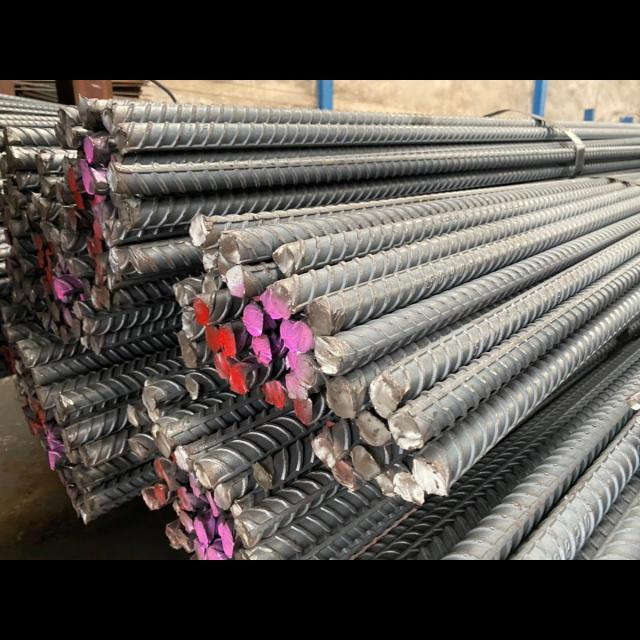Rebar: (388, 410, 426, 451), (413, 458, 449, 501), (325, 377, 361, 418), (355, 409, 390, 446), (367, 375, 401, 413), (270, 241, 308, 275), (315, 338, 347, 375), (305, 303, 336, 338), (221, 231, 249, 269), (354, 448, 385, 482), (398, 474, 427, 507), (180, 330, 205, 368), (296, 354, 324, 387), (332, 463, 360, 495), (277, 346, 305, 377), (167, 443, 198, 471), (296, 396, 320, 432), (315, 435, 339, 470), (285, 322, 313, 352), (272, 280, 296, 315), (233, 517, 259, 549), (231, 362, 254, 397), (152, 460, 179, 489), (259, 285, 282, 319), (244, 306, 266, 341), (149, 422, 171, 457), (226, 267, 251, 297), (217, 323, 239, 357), (179, 310, 202, 342), (268, 380, 294, 408), (379, 472, 403, 502), (195, 296, 218, 327), (172, 281, 196, 309), (139, 382, 162, 411), (194, 216, 214, 249), (200, 245, 222, 273), (287, 372, 309, 399), (252, 335, 274, 362), (184, 373, 205, 401), (183, 472, 204, 500), (130, 437, 152, 463), (143, 479, 168, 501), (178, 530, 197, 558), (122, 402, 144, 426), (192, 519, 209, 550), (219, 524, 234, 559), (179, 485, 197, 514), (201, 273, 221, 299), (215, 353, 234, 380), (227, 499, 246, 526), (198, 462, 214, 493), (207, 484, 225, 511), (205, 327, 221, 357), (141, 491, 158, 516), (207, 489, 221, 519), (177, 508, 192, 535), (144, 400, 159, 426), (167, 527, 178, 554), (206, 544, 222, 560)
